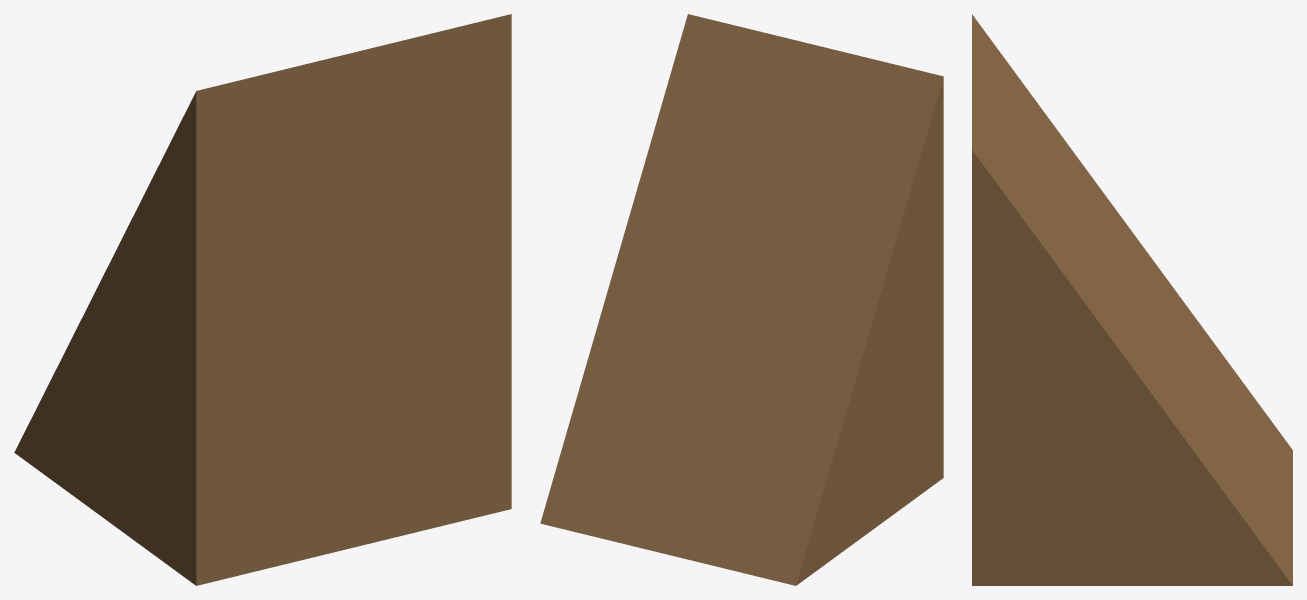
Rendered from harbor-ramp.lod0.glb.
3 views of the same model, side by side, from view 1: azimuth 30°, elevation 25°; view 2: azimuth 150°, elevation 25°; view 3: azimuth 270°, elevation 25° (orthographic). The views are drawn at different scales.
Parts seen in each view (by area): view 1: harbor-ramp__body; view 2: harbor-ramp__body; view 3: harbor-ramp__body.
Part boxes in pixels (box(x1,y1,x2,y2)): harbor-ramp__body: box(14, 14, 511, 585); harbor-ramp__body: box(540, 14, 943, 585); harbor-ramp__body: box(972, 14, 1292, 585).
Bounding box in the file's own units: 2 × 3 × 2.
